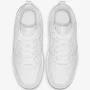shoe: (46, 2, 77, 89), (13, 1, 43, 89)
